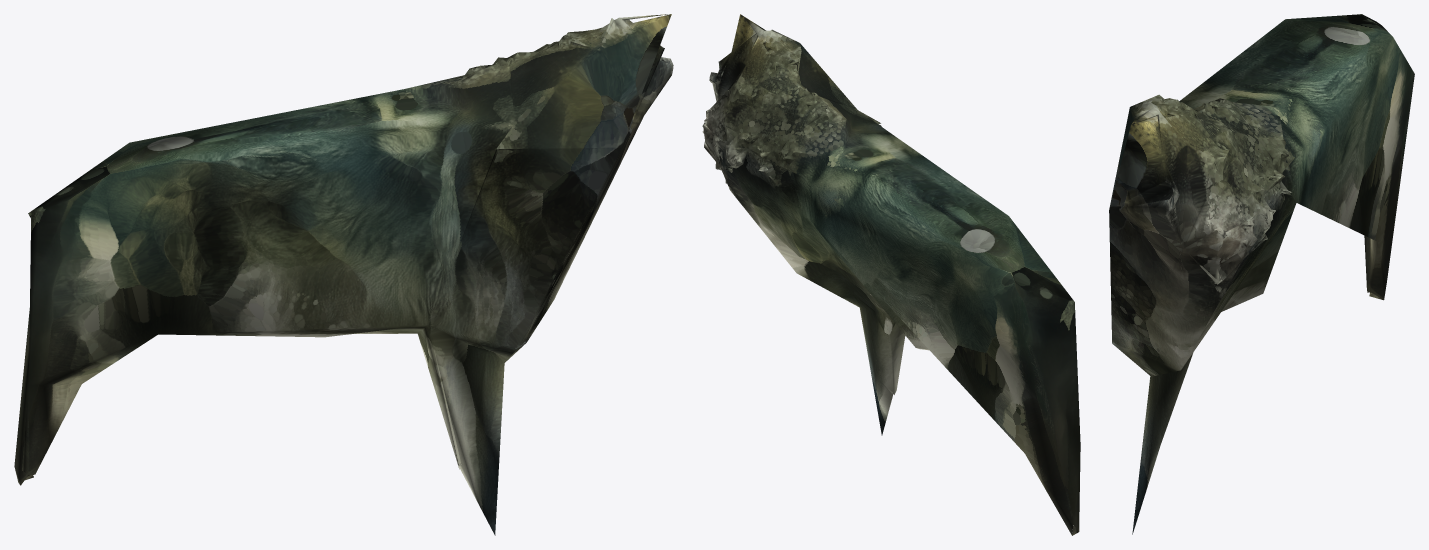
The model's file is wolf_black_single_1500.glb.
3 views of the same model, side by side, from view 1: azimuth 30°, elevation 25°; view 2: azimuth 150°, elevation 25°; view 3: azimuth 270°, elevation 25° (orthographic). The views are drawn at different scales.
Size of the model in its own units: 0.8516 by 0.7039 by 0.3894.
Materials: 1 (1 with a texture image).
